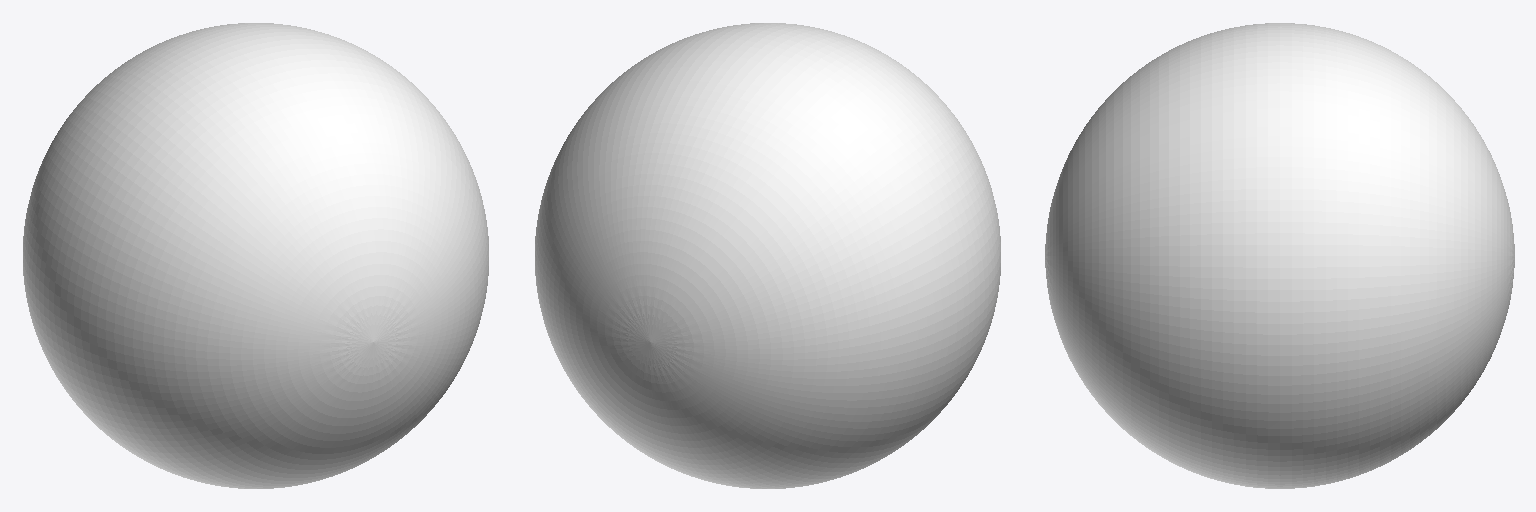
File: sun.obj
The picture shows the model from 3 angles: view 1: azimuth 30°, elevation 25°; view 2: azimuth 150°, elevation 25°; view 3: azimuth 270°, elevation 25°; orthographic projection.
Parts seen in each view (by area): view 1: 13913_Sun; view 2: 13913_Sun; view 3: 13913_Sun.
Part boxes in pixels (x1,y1,x2,y2): 13913_Sun: (23,23,488,488); 13913_Sun: (535,23,1000,488); 13913_Sun: (1045,23,1514,488).
Bounding box in the file's own units: 7.83 × 7.83 × 7.91.